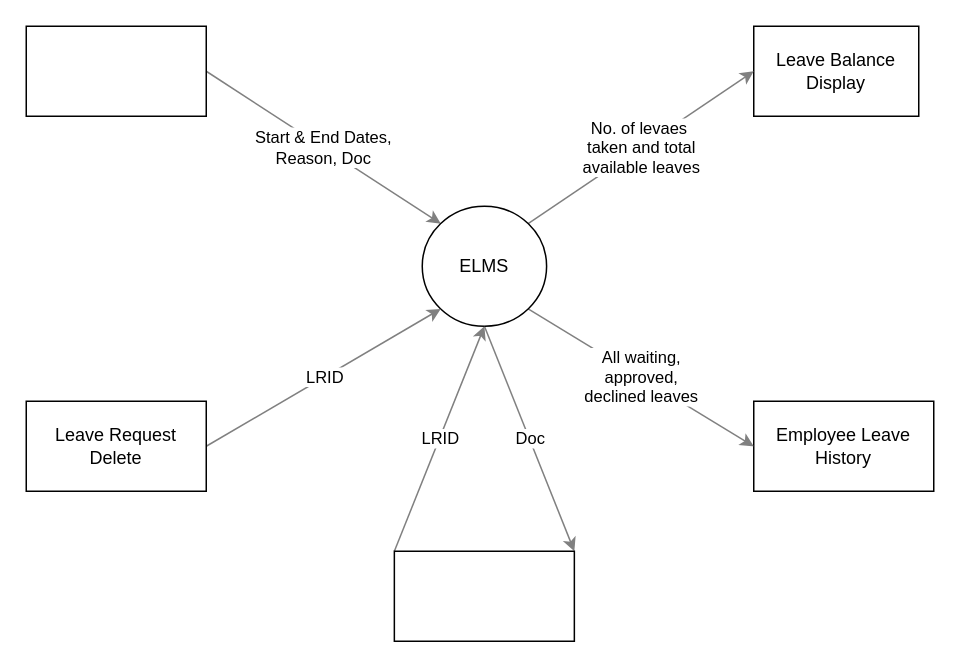
This 960x668 diagram has some shape labels left out. Here are the shapes that lost their labels. From the top down, the box of each, then its label:
(25, 25, 206, 116): Employee Leave Request
(393, 550, 574, 641): Supporting Doc Display
